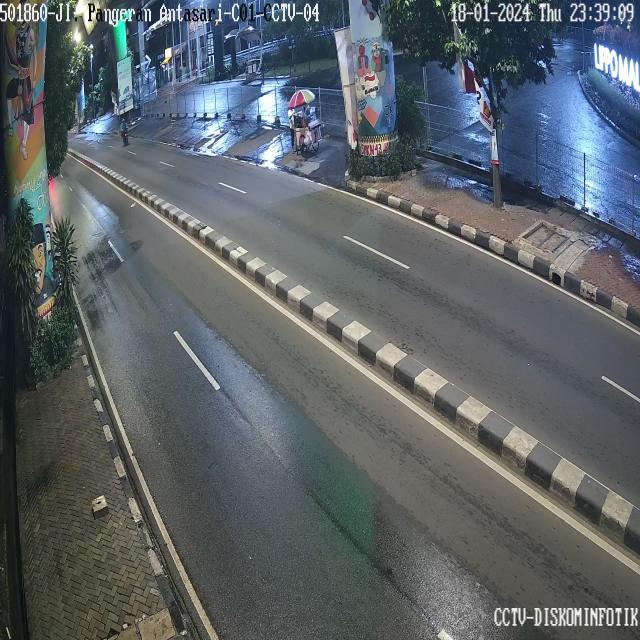Gerobak: (289, 111, 324, 163)
Payung: (282, 83, 319, 108)
